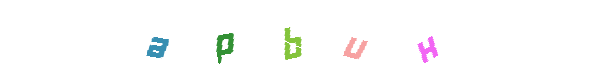A: (117, 0, 197, 80)
B: (246, 0, 326, 80)
P: (184, 0, 264, 80)
V: (263, 0, 343, 80)
X: (351, 0, 431, 80)
